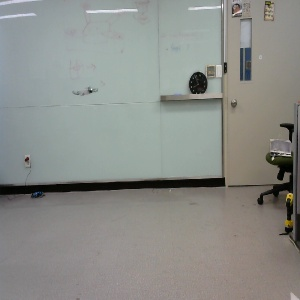Drone: (72, 84, 97, 100)
